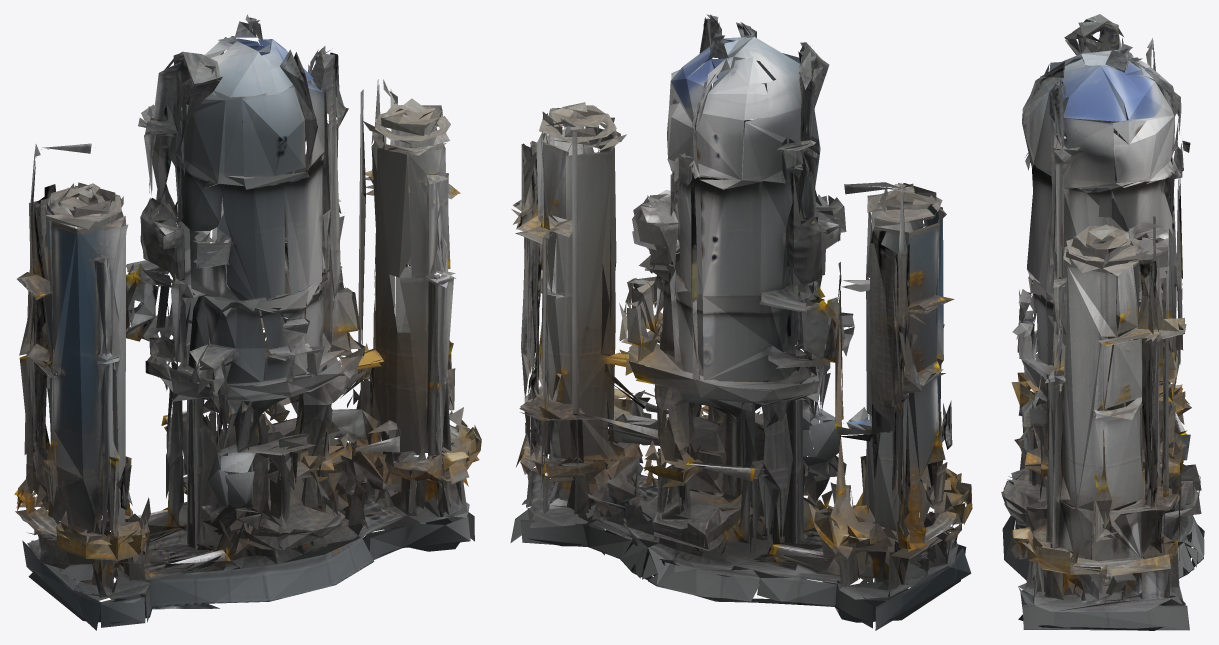
File: oxygen_plant_t3.fbx
3 renders of one model, left to right at view 1: azimuth 30°, elevation 25°; view 2: azimuth 150°, elevation 25°; view 3: azimuth 270°, elevation 25°, orthographic. The views are drawn at different scales.
Parts seen in each view (by area): view 1: oxygen_plant_t3; view 2: oxygen_plant_t3; view 3: oxygen_plant_t3.
Part boxes in pixels (<box>): oxygen_plant_t3: <box>14,14,481,630</box>; oxygen_plant_t3: <box>510,14,972,630</box>; oxygen_plant_t3: <box>1001,14,1204,630</box>.
Size of the model in its own units: 3.98 by 4.67 by 1.69.
1 material, 1 textured.
